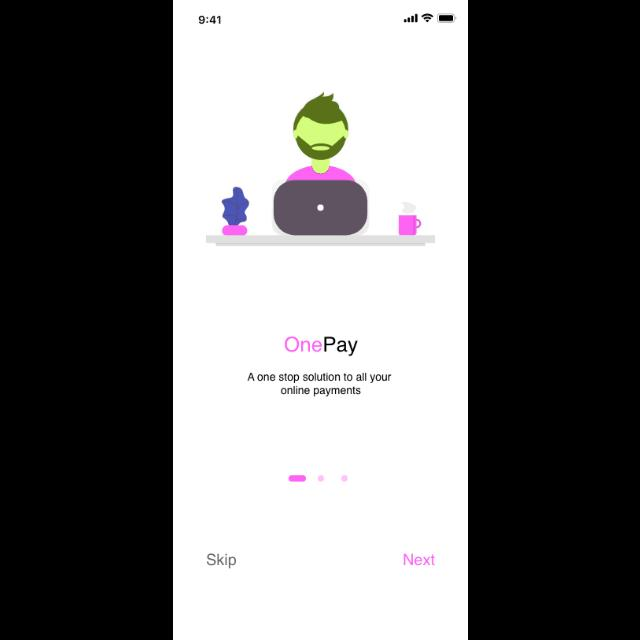image: (205, 92, 435, 248)
pageindicator: (288, 475, 348, 483)
text: (246, 372, 392, 398), (284, 336, 358, 356), (206, 553, 236, 569), (402, 553, 436, 567)
uppertaskbar: (198, 13, 456, 24)
